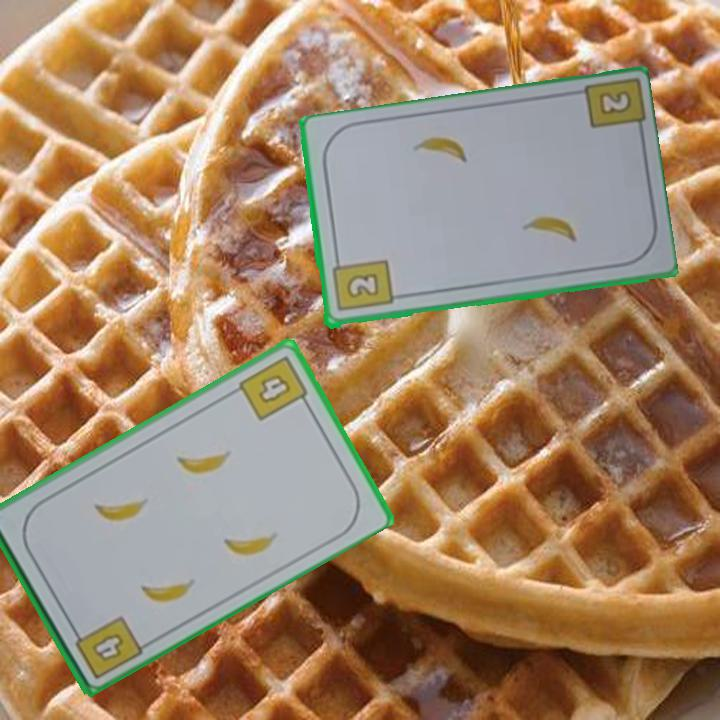2b: (328, 253, 395, 315), (598, 90, 631, 115)
4b: (235, 352, 313, 424), (67, 612, 145, 682)
